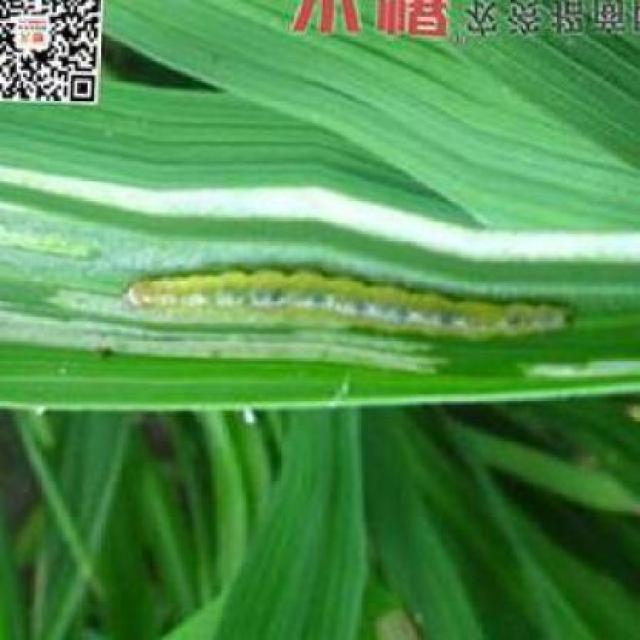leaf-folder: (120, 253, 586, 359)
